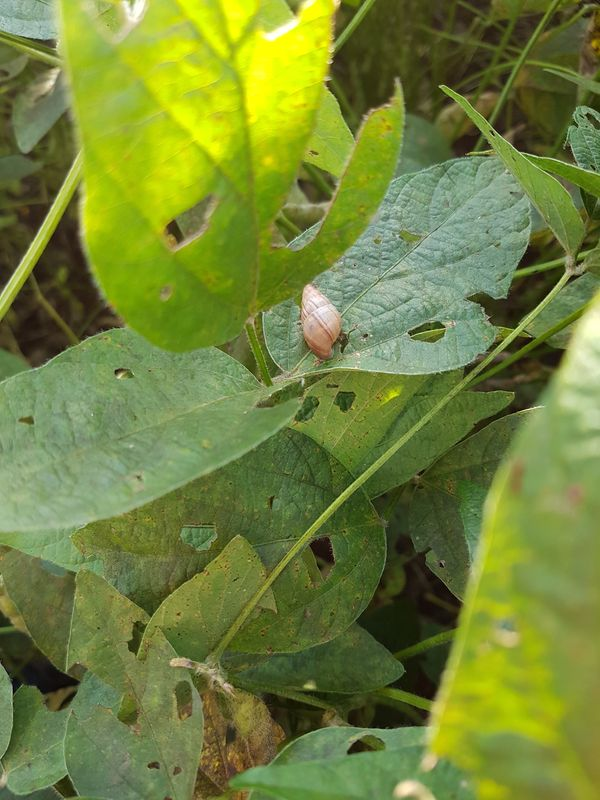Gastropoda: (283, 275, 361, 375)
